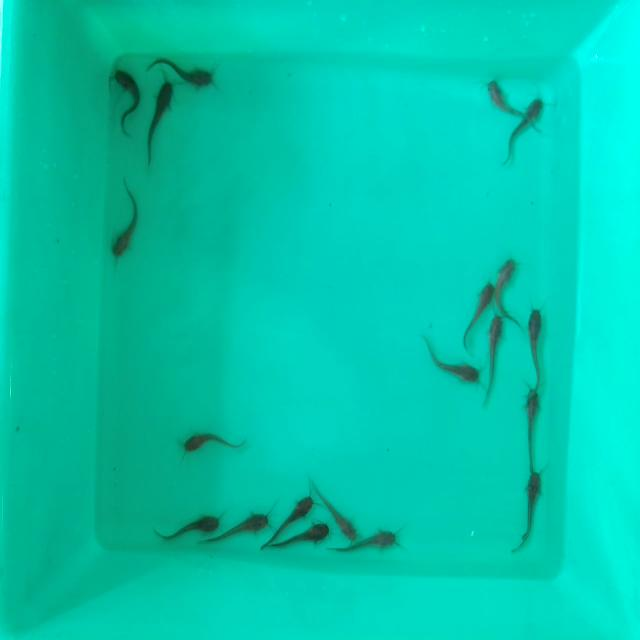lele: (142, 79, 174, 164), (507, 100, 549, 160), (144, 54, 220, 87), (516, 390, 547, 465), (110, 180, 139, 260), (519, 470, 547, 549), (111, 68, 142, 138), (483, 78, 528, 126), (154, 509, 218, 542), (525, 306, 550, 386), (421, 355, 483, 385), (339, 529, 399, 558), (494, 260, 522, 320), (215, 512, 273, 539), (467, 274, 495, 329), (486, 317, 504, 399), (178, 430, 238, 454), (272, 496, 317, 527), (328, 500, 360, 540), (286, 522, 331, 546)
